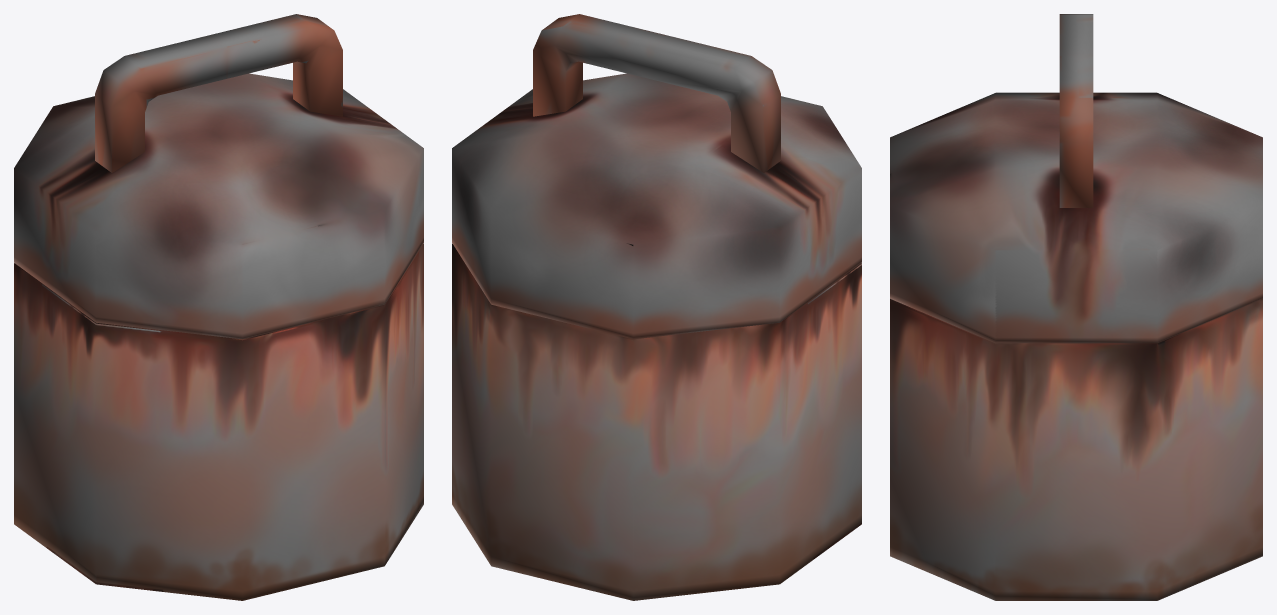
The model's file is Container1.fbx_Container1_1 (1).fbx.
3 renders of one model, left to right at view 1: azimuth 30°, elevation 25°; view 2: azimuth 150°, elevation 25°; view 3: azimuth 270°, elevation 25°, orthographic.
Parts seen in each view (by area): view 1: Container1.1, Cube.001, Cube.002; view 2: Container1.1, Cube.001, Cube.002; view 3: Container1.1, Cube.001, Cube.002.
Boxes of the visible parts, <box> form: Container1.1: <box>14,243,423,600</box>; Cube.001: <box>14,73,423,339</box>; Cube.002: <box>95,14,342,172</box>; Container1.1: <box>452,243,861,600</box>; Cube.001: <box>452,73,861,339</box>; Cube.002: <box>533,14,780,172</box>; Container1.1: <box>890,299,1262,600</box>; Cube.001: <box>890,92,1262,343</box>; Cube.002: <box>1059,14,1093,207</box>.
Bounding box in the file's own units: 200 × 276 × 200.
